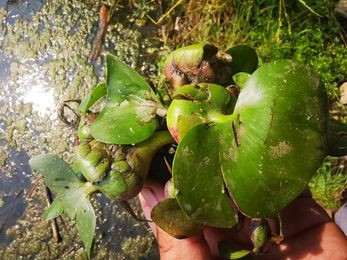water_hyacinth: (61, 37, 344, 241)
